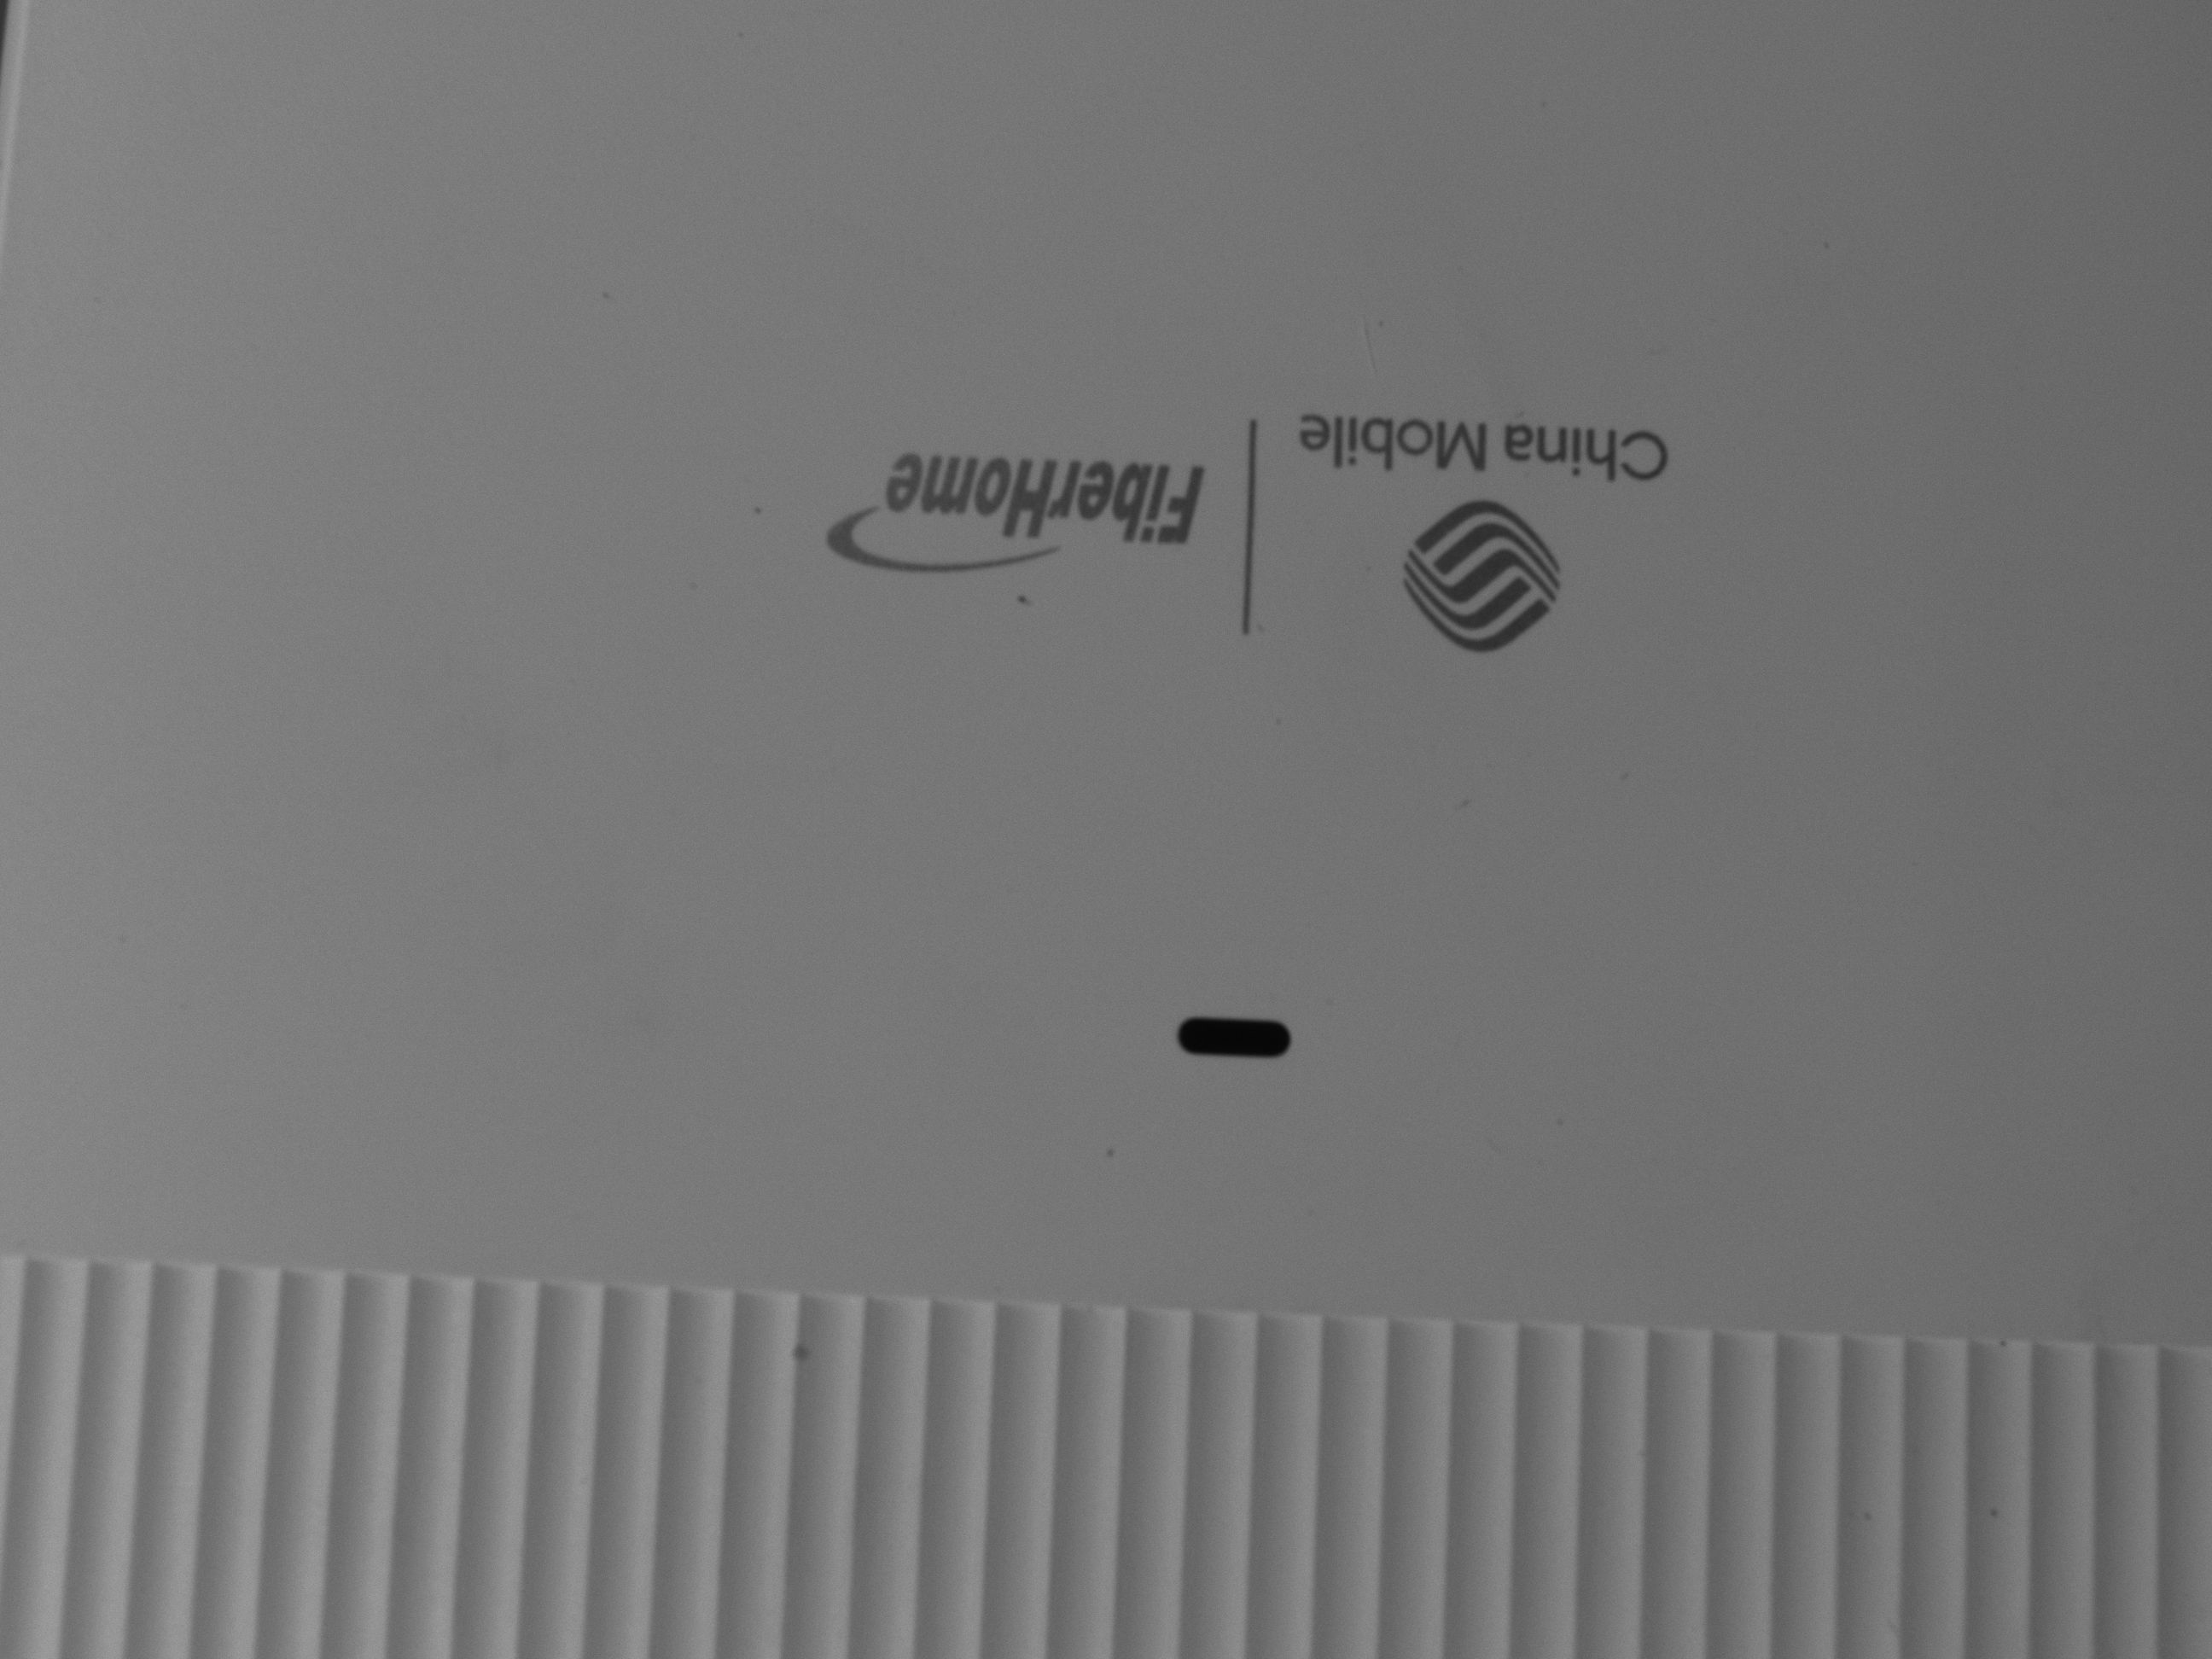BX_HG6371FMobileFiberhome: (792, 352, 1728, 666)
